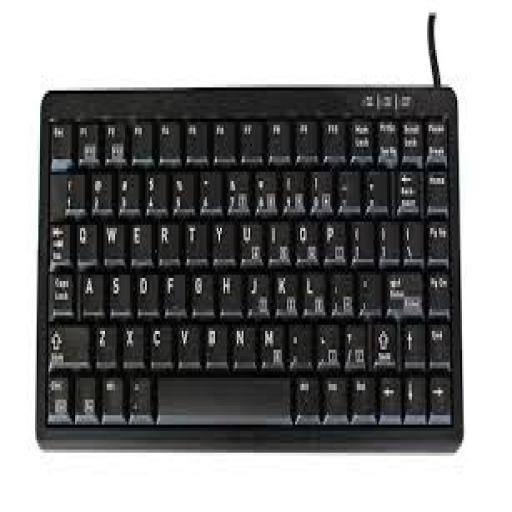KEYBOARD-2: (35, 16, 462, 450)
